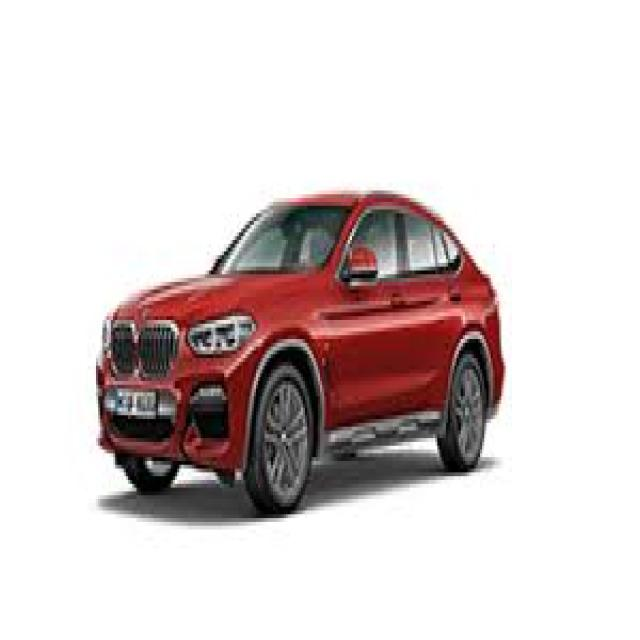SUV: (94, 192, 504, 519)
